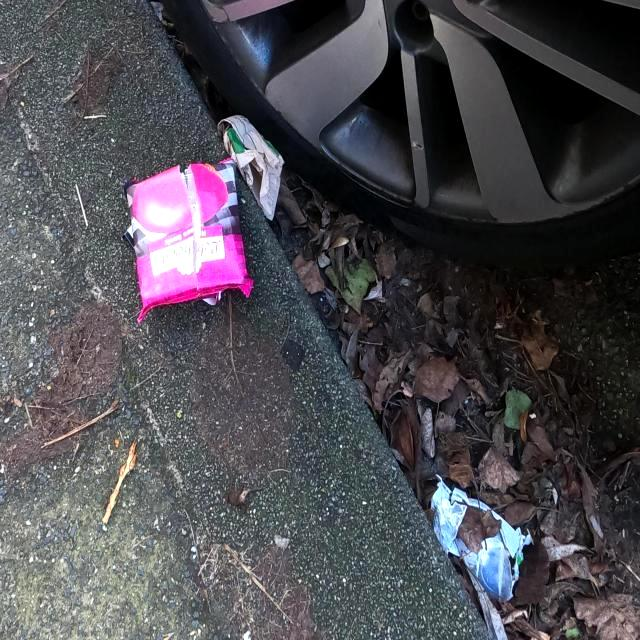Paper: (217, 114, 285, 220)
Plastic: (122, 156, 256, 326)
